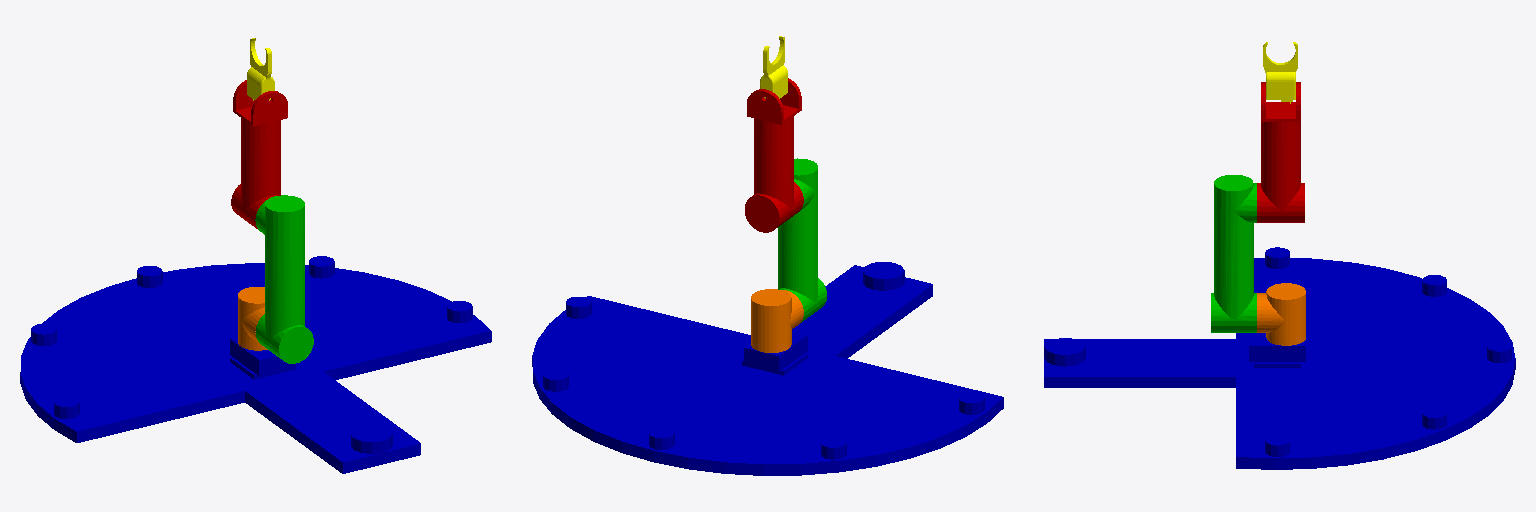
robot.urdf — assem6:
<?xml version="1.0"?>
<robot name="assem6">

  <!-- ros2_control hardware interface -->
  <ros2_control name="GazeboSystem" type="system">
    <hardware>
      <plugin>gazebo_ros2_control/GazeboSystem</plugin>
    </hardware>
    <joint name="joint1">
      <command_interface name="position">
        <param name="min">-3.14</param>
        <param name="max">3.14</param>
      </command_interface>
      <state_interface name="position"/>
      <state_interface name="velocity"/>
    </joint>
    <joint name="joint2">
      <command_interface name="position">
        <param name="min">-1.57</param>
        <param name="max">1.57</param>
      </command_interface>
      <state_interface name="position"/>
      <state_interface name="velocity"/>
    </joint>
    <joint name="joint3">
      <command_interface name="position">
        <param name="min">-1.57</param>
        <param name="max">1.57</param>
      </command_interface>
      <state_interface name="position"/>
      <state_interface name="velocity"/>
    </joint>
    <joint name="joint4">
      <command_interface name="position">
        <param name="min">-3.14</param>
        <param name="max">3.14</param>
      </command_interface>
      <state_interface name="position"/>
      <state_interface name="velocity"/>
    </joint>
  </ros2_control>

  <!-- Gazebo ros2_control plugin -->
  <gazebo>
    <plugin filename="libgazebo_ros2_control.so" name="gazebo_ros2_control">
      <robot_param>robot_description</robot_param>
      <robot_param_node>robot_state_publisher</robot_param_node>
      <parameters>/home/mma/x-bot/install/assem6/share/assem6/config/ros2_controllers.yaml</parameters>
    </plugin>
  </gazebo>

  <!-- Gazebo colors -->
  <gazebo reference="base_link">
    <material>Gazebo/Blue</material>
  </gazebo>
  <gazebo reference="link1">
    <material>Gazebo/Orange</material>
  </gazebo>
  <gazebo reference="link2">
    <material>Gazebo/Green</material>
  </gazebo>
  <gazebo reference="link3">
    <material>Gazebo/Red</material>
  </gazebo>
  <gazebo reference="link4">
    <material>Gazebo/Yellow</material>
  </gazebo>

  <!-- World link -->
  <link name="world"/>
  
  <joint name="world_fixed" type="fixed">
    <parent link="world"/>
    <child link="base_link"/>
    <origin xyz="0 0 0.5" rpy="0 0 0"/>
  </joint>

  <link name="base_link">
    <inertial>
      <origin xyz="0.036 0.040 -0.070" rpy="0 0 0"/>
      <mass value="5.0"/>
      <inertia ixx="0.1" ixy="0" ixz="0" iyy="0.1" iyz="0" izz="0.1"/>
    </inertial>
    <visual>
      <origin xyz="0 0 0" rpy="0 0 0"/>
      <geometry>
        <mesh filename="package://assem6/meshes/base_link.STL"/>
      </geometry>
      <material name="blue">
        <color rgba="0 0 0.8 1"/>
      </material>
    </visual>
    <collision>
      <origin xyz="0 0 0" rpy="0 0 0"/>
      <geometry>
        <mesh filename="package://assem6/meshes/base_link.STL"/>
      </geometry>
    </collision>
  </link>

  <link name="link1">
    <inertial>
      <origin xyz="0 -0.013 0.097" rpy="0 0 0"/>
      <mass value="0.5"/>
      <inertia ixx="0.002" ixy="0" ixz="0" iyy="0.002" iyz="0" izz="0.002"/>
    </inertial>
    <visual>
      <origin xyz="0 0 0" rpy="0 0 0"/>
      <geometry>
        <mesh filename="package://assem6/meshes/link1.STL"/>
      </geometry>
      <material name="orange">
        <color rgba="1 0.5 0 1"/>
      </material>
    </visual>
    <collision>
      <origin xyz="0 0 0" rpy="0 0 0"/>
      <geometry>
        <mesh filename="package://assem6/meshes/link1.STL"/>
      </geometry>
    </collision>
  </link>

  <joint name="joint1" type="revolute">
    <origin xyz="0.033986 -0.081844 0.011835" rpy="0 0 0"/>
    <parent link="base_link"/>
    <child link="link1"/>
    <axis xyz="0 0 1"/>
    <limit lower="-3.14" upper="3.14" effort="100" velocity="1.0"/>
    <dynamics damping="0.5" friction="0.1"/>
  </joint>

  <link name="link2">
    <inertial>
      <origin xyz="0 0.2 0.1" rpy="0 0 0"/>
      <mass value="1.0"/>
      <inertia ixx="0.01" ixy="0" ixz="0" iyy="0.005" iyz="0" izz="0.01"/>
    </inertial>
    <visual>
      <origin xyz="0 0 0" rpy="0 0 0"/>
      <geometry>
        <mesh filename="package://assem6/meshes/link2.STL"/>
      </geometry>
      <material name="green">
        <color rgba="0 0.8 0 1"/>
      </material>
    </visual>
    <collision>
      <origin xyz="0 0 0" rpy="0 0 0"/>
      <geometry>
        <mesh filename="package://assem6/meshes/link2.STL"/>
      </geometry>
    </collision>
  </link>

  <joint name="joint2" type="revolute">
    <origin xyz="0 -0.0625 0.09129" rpy="1.5707963267949 0 0"/>
    <parent link="link1"/>
    <child link="link2"/>
    <axis xyz="0 0 1"/>
    <limit lower="-1.57" upper="1.57" effort="100" velocity="1.0"/>
    <dynamics damping="0.5" friction="0.1"/>
  </joint>

  <link name="link3">
    <inertial>
      <origin xyz="0 0.19 0.07" rpy="0 0 0"/>
      <mass value="1.0"/>
      <inertia ixx="0.01" ixy="0" ixz="0" iyy="0.005" iyz="0" izz="0.01"/>
    </inertial>
    <visual>
      <origin xyz="0 0 0" rpy="0 0 0"/>
      <geometry>
        <mesh filename="package://assem6/meshes/link3.STL"/>
      </geometry>
      <material name="red">
        <color rgba="0.8 0 0 1"/>
      </material>
    </visual>
    <collision>
      <origin xyz="0 0 0" rpy="0 0 0"/>
      <geometry>
        <mesh filename="package://assem6/meshes/link3.STL"/>
      </geometry>
    </collision>
  </link>

  <joint name="joint3" type="revolute">
    <origin xyz="0 0.378542203070813 0.0288" rpy="-3.14159265358979 0 3.14159265358979"/>
    <parent link="link2"/>
    <child link="link3"/>
    <axis xyz="0 0 1"/>
    <limit lower="-1.57" upper="1.57" effort="100" velocity="1.0"/>
    <dynamics damping="0.5" friction="0.1"/>
  </joint>

  <link name="link4">
    <inertial>
      <origin xyz="0 0.047 -0.04" rpy="0 0 0"/>
      <mass value="0.3"/>
      <inertia ixx="0.0005" ixy="0" ixz="0" iyy="0.0003" iyz="0" izz="0.0004"/>
    </inertial>
    <visual>
      <origin xyz="0 0 0" rpy="0 0 0"/>
      <geometry>
        <mesh filename="package://assem6/meshes/link4.STL"/>
      </geometry>
      <material name="yellow">
        <color rgba="1 1 0 1"/>
      </material>
    </visual>
    <collision>
      <origin xyz="0 0 0" rpy="0 0 0"/>
      <geometry>
        <mesh filename="package://assem6/meshes/link4.STL"/>
      </geometry>
    </collision>
  </link>

  <joint name="joint4" type="revolute">
    <origin xyz="0 0.39129 0.1158" rpy="0 0 0"/>
    <parent link="link3"/>
    <child link="link4"/>
    <axis xyz="0 0 1"/>
    <limit lower="-3.14" upper="3.14" effort="100" velocity="1.0"/>
    <dynamics damping="0.5" friction="0.1"/>
  </joint>

</robot>

--- Render facts (derived) ---
Views: 3 orthographic renders of the robot side by side, from view 1: azimuth 30°, elevation 25°; view 2: azimuth 150°, elevation 25°; view 3: azimuth 270°, elevation 25°.
Model assem6 with 6 links and 5 joints (4 revolute, 1 fixed), rooted at world, posed every joint at zero.
Visible links, largest first — view 1: base_link, link2, link3, link1, link4; view 2: base_link, link3, link2, link1, link4; view 3: base_link, link2, link3, link1, link4.
Link boxes in pixels (x1,y1,x2,y2): base_link: [20, 256, 491, 473]; link2: [255, 195, 313, 363]; link3: [231, 80, 287, 228]; link1: [238, 287, 267, 350]; link4: [247, 38, 274, 100]; base_link: [532, 262, 1003, 475]; link3: [745, 78, 803, 232]; link2: [778, 158, 826, 322]; link1: [751, 289, 803, 352]; link4: [760, 36, 787, 98]; base_link: [1044, 247, 1515, 469]; link2: [1211, 175, 1256, 332]; link3: [1257, 82, 1304, 222]; link1: [1257, 283, 1305, 345]; link4: [1263, 42, 1297, 103].
Size in the robot's own frame: 1.5 by 1.48 by 1.13 metres.
5 mesh visuals loaded from 5 distinct referenced files (5 binary STL).
